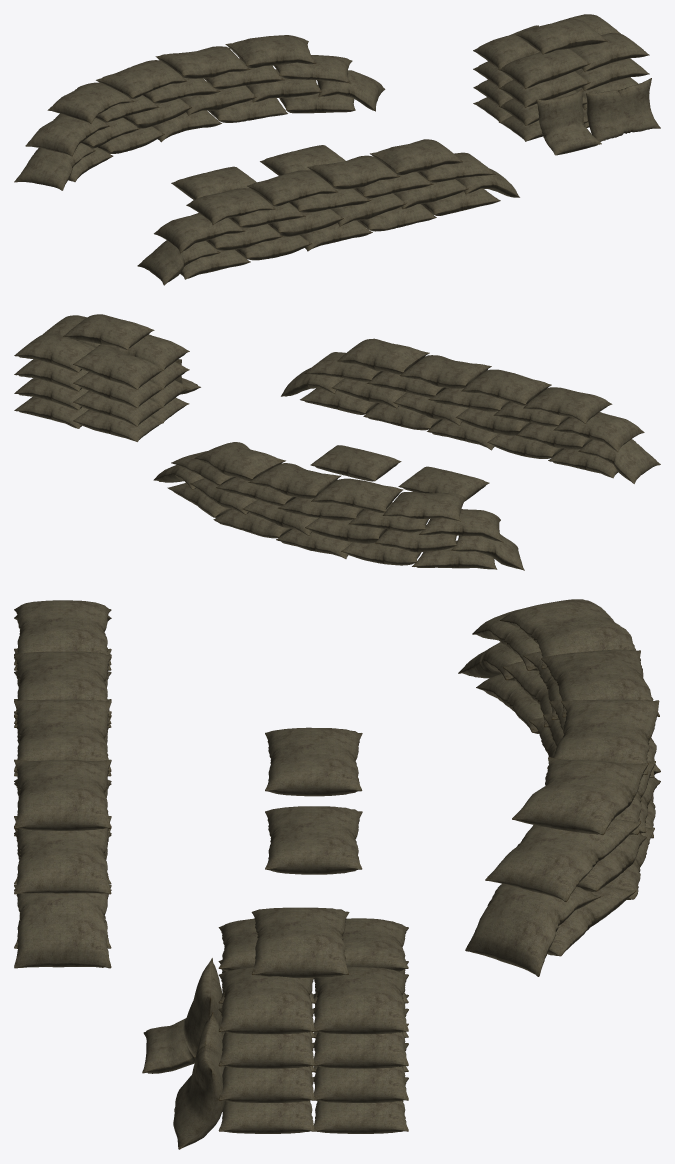
Rendered from sand.fbx.
3 views of the same model, one above another, from view 1: azimuth 30°, elevation 25°; view 2: azimuth 150°, elevation 25°; view 3: azimuth 270°, elevation 25° (orthographic). The views are drawn at different scales.
Visible parts, largest first — view 1: set3, polySurface18, polySurface17, polySurface2, bag22, polySurface19, bag20, bag19, bag21, bag14, bag11, bag_low4 (+26 smaller); view 2: set3, polySurface3, bag_low5, bag22, polySurface19, bag20, bag19, bag21, bag14, bag_low4, polySurface4, bag11 (+25 smaller); view 3: set3, bag6, bag22, polySurface19, bag_low5, bag_low4, bag12, polySurface4, bag19, polySurface5, bag21, bag20 (+10 smaller).
Part boxes in pixels (bbox=[...]): set3: bbox=[14, 35, 385, 190]; polySurface18: bbox=[586, 78, 660, 141]; polySurface17: bbox=[536, 89, 601, 155]; polySurface2: bbox=[498, 49, 590, 88]; bag22: bbox=[370, 139, 462, 175]; polySurface19: bbox=[516, 18, 607, 54]; bag20: bbox=[247, 170, 337, 206]; bag19: bbox=[307, 155, 400, 189]; bag21: bbox=[186, 188, 275, 224]; bag14: bbox=[154, 213, 245, 253]; bag11: bbox=[137, 240, 220, 285]; bag_low4: bbox=[171, 166, 256, 199]; set3: bbox=[153, 442, 524, 570]; polySurface3: bbox=[73, 345, 163, 389]; bag_low5: bbox=[310, 445, 401, 481]; bag22: bbox=[337, 338, 429, 374]; polySurface19: bbox=[63, 314, 154, 349]; bag20: bbox=[461, 369, 551, 405]; bag19: bbox=[400, 355, 491, 388]; bag21: bbox=[523, 387, 612, 423]; bag14: bbox=[553, 412, 644, 451]; bag_low4: bbox=[398, 466, 489, 500]; polySurface4: bbox=[14, 334, 95, 372]; bag11: bbox=[578, 439, 660, 483]; set3: bbox=[458, 599, 660, 976]; bag6: bbox=[14, 889, 111, 968]; bag22: bbox=[14, 759, 111, 830]; polySurface19: bbox=[251, 907, 349, 977]; bag_low5: bbox=[265, 806, 362, 874]; bag_low4: bbox=[265, 727, 362, 796]; bag12: bbox=[14, 816, 111, 894]; polySurface4: bbox=[311, 967, 408, 1034]; bag19: bbox=[14, 699, 111, 771]; polySurface5: bbox=[218, 967, 315, 1034]; bag21: bbox=[14, 600, 111, 665]; bag20: bbox=[14, 651, 111, 716].
Bounding box in the file's own units: 6075 × 995 × 3422.
Materials: 2 (2 with a texture image).
